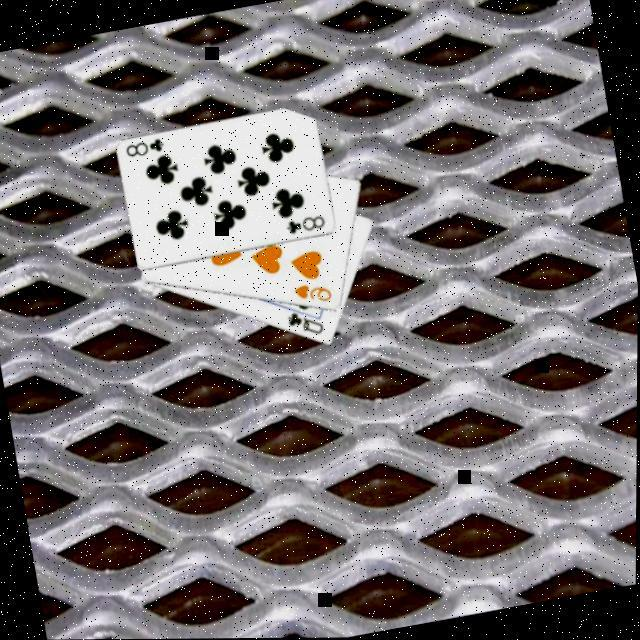8C: (123, 133, 170, 160), (284, 210, 330, 237)
9H: (292, 275, 338, 308)
QC: (284, 303, 330, 341)
